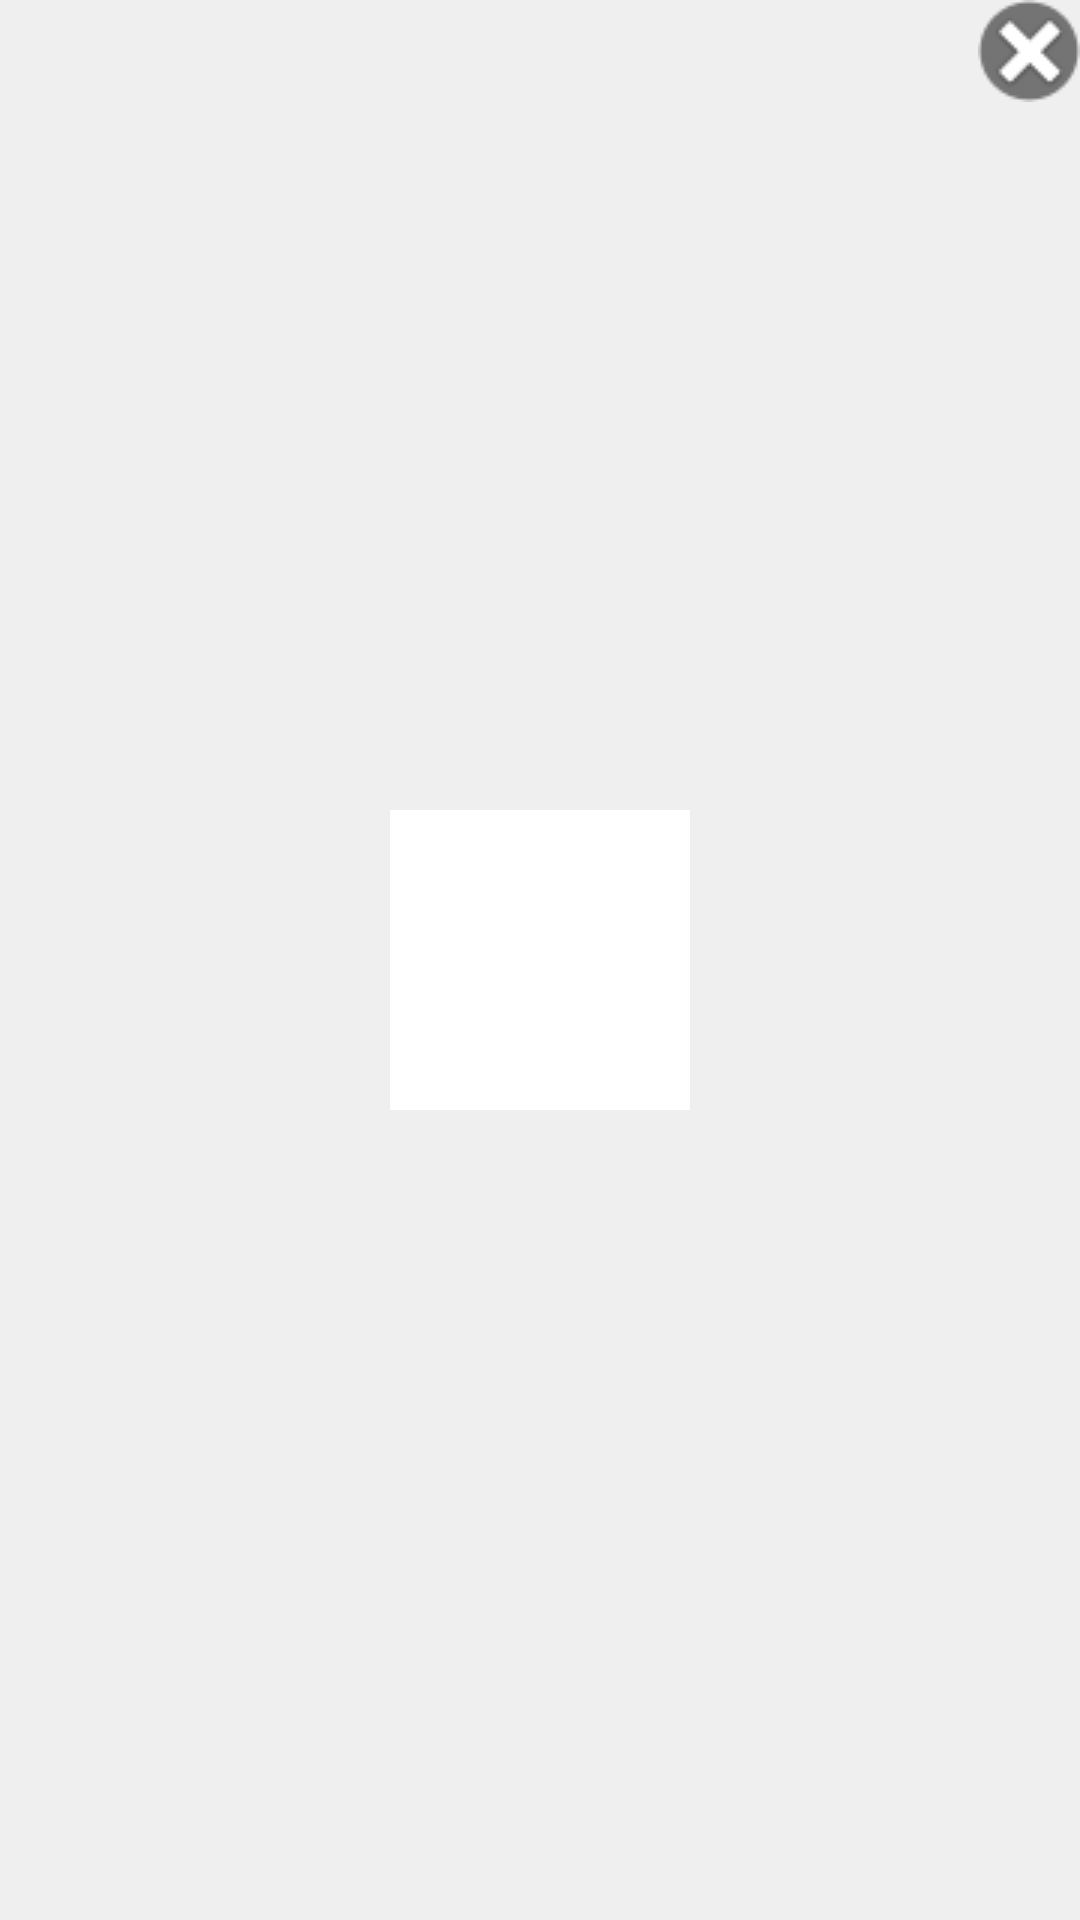

Where icons sit on this 1080x1920 app screen, as (x1, y1, x2, y2):
report delete: (978, 0, 1080, 102)
